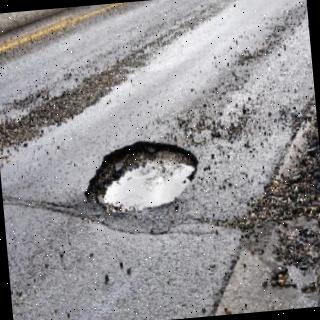pothole: (84, 142, 198, 212)
